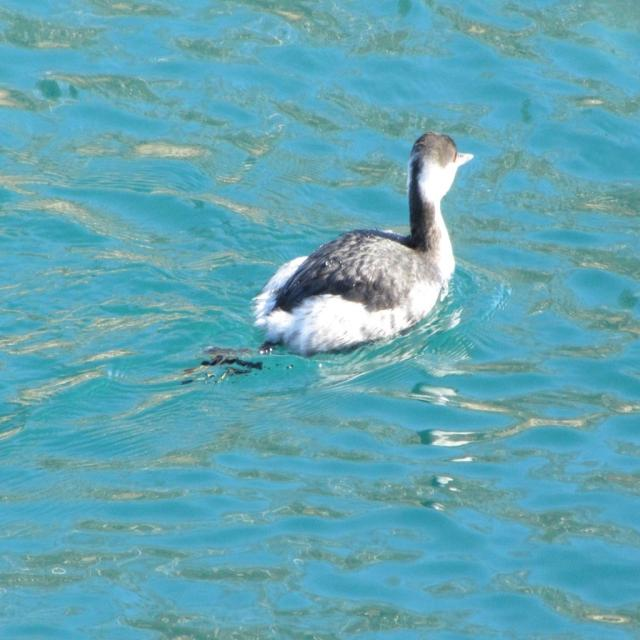bird: (260, 124, 480, 353)
